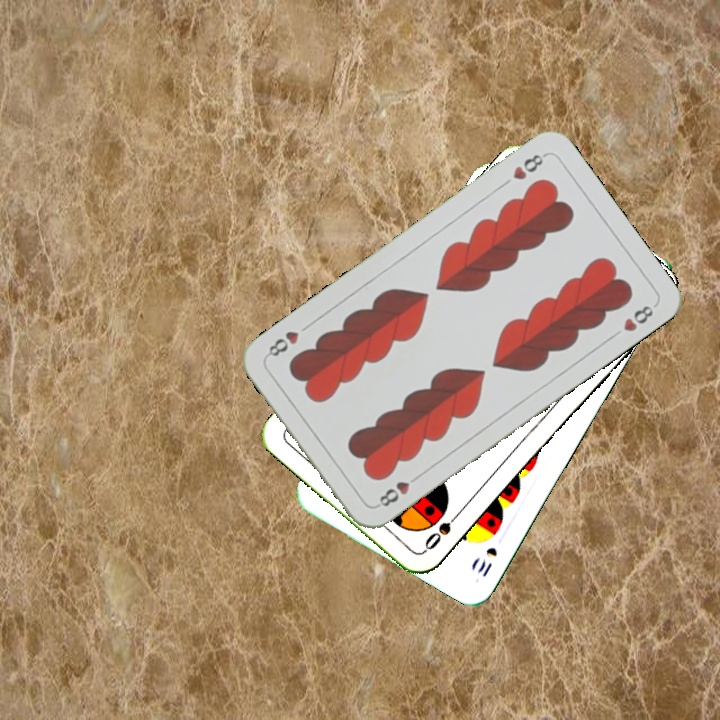H8: (372, 470, 423, 510), (508, 149, 549, 183)
S10: (473, 543, 500, 580)
SO: (420, 506, 465, 554)
